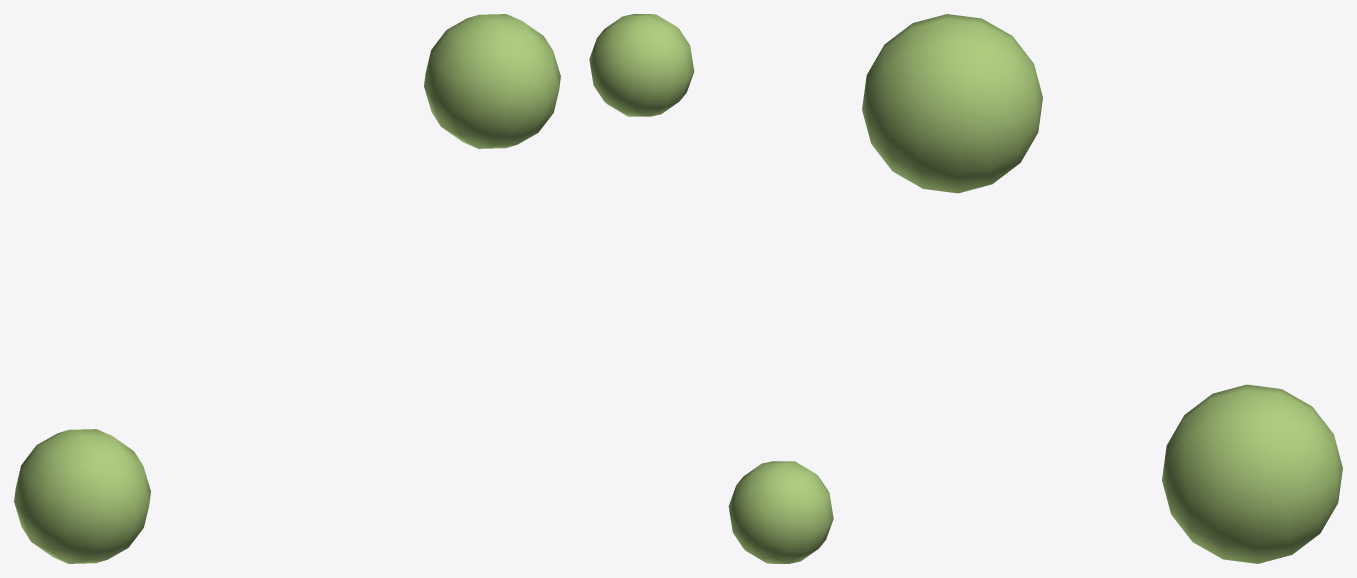
The model's file is inferior-epigastric-nodes-r.glb.
The picture shows the model from 3 angles, left to right: view 1: azimuth 30°, elevation 25°; view 2: azimuth 150°, elevation 25°; view 3: azimuth 270°, elevation 25°; orthographic projection. The views are drawn at different scales.
Visible parts, largest first — view 1: Inferior epigastric nodes.r; view 2: Inferior epigastric nodes.r; view 3: Inferior epigastric nodes.r.
Boxes of the visible parts, left/top/right/bottom form: Inferior epigastric nodes.r: left=14, top=14, right=560, bottom=563; Inferior epigastric nodes.r: left=589, top=14, right=833, bottom=563; Inferior epigastric nodes.r: left=862, top=14, right=1342, bottom=563.
Size of the model in its own units: 0.00902 by 0.0114 by 0.00689.
